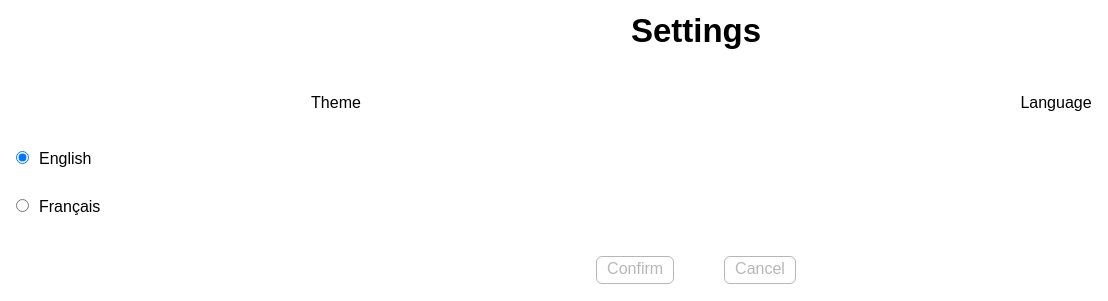
Test: Settings › buttons disabled for language settings
Expected: the button "Confirm" is disabled, [596, 256, 674, 284]
Expected: the button "Cancel" is disabled, [724, 256, 796, 284]
Step 1. Click the text "Français" → (70, 206), box [39, 198, 100, 215]
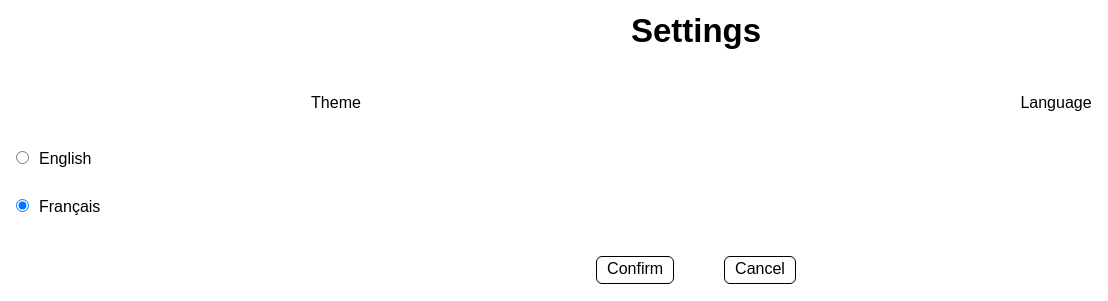
Now the button "Confirm" is enabled, box [596, 256, 674, 284]
Now the button "Cancel" is enabled, box [724, 256, 796, 284]
Step 2. Click the text "English" → (65, 158), box [39, 150, 92, 167]
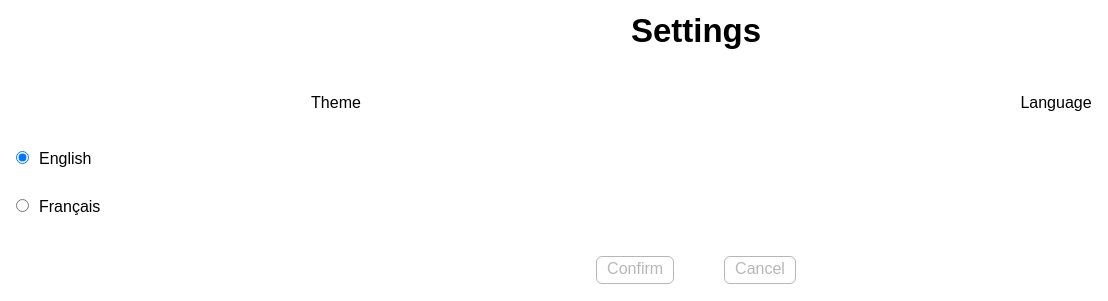
Now the button "Confirm" is disabled, box [596, 256, 674, 284]
Now the button "Cancel" is disabled, box [724, 256, 796, 284]
